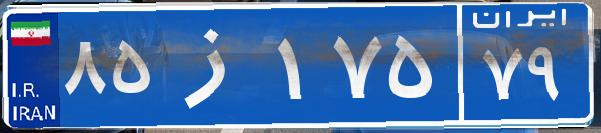1: (273, 28, 330, 110)
5: (385, 28, 445, 110), (110, 28, 158, 105)
7: (330, 28, 385, 110), (475, 38, 525, 113)
8: (57, 26, 110, 107)
9: (525, 38, 570, 115)
ز: (158, 15, 273, 115)
